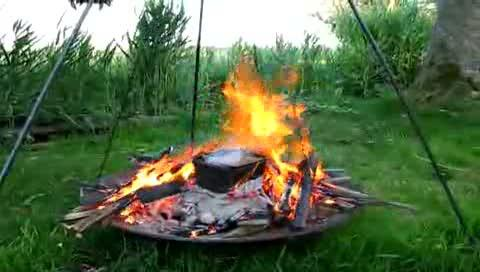fire: (223, 76, 283, 158), (274, 160, 305, 203), (136, 162, 190, 185)
